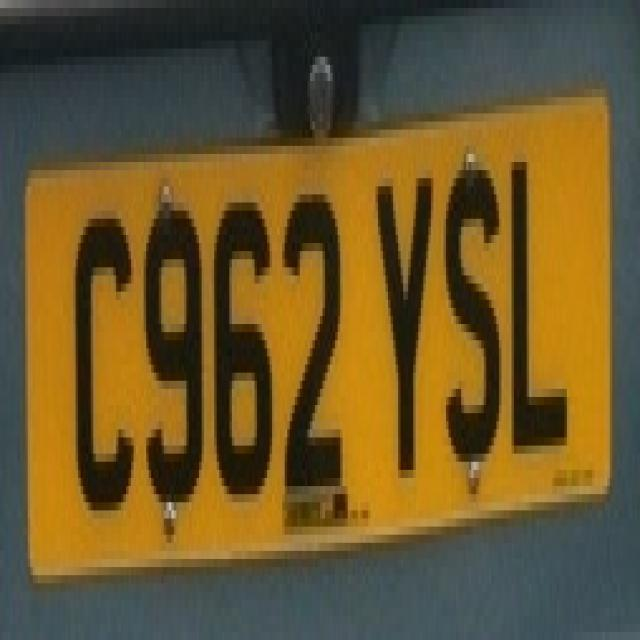licenseplate: (16, 62, 627, 588)
